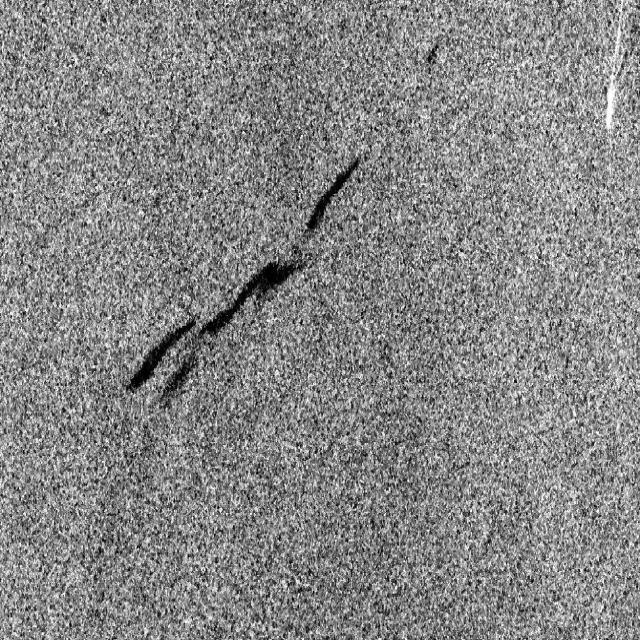oil-spill: (205, 253, 303, 345), (120, 317, 202, 403), (304, 156, 367, 232)
